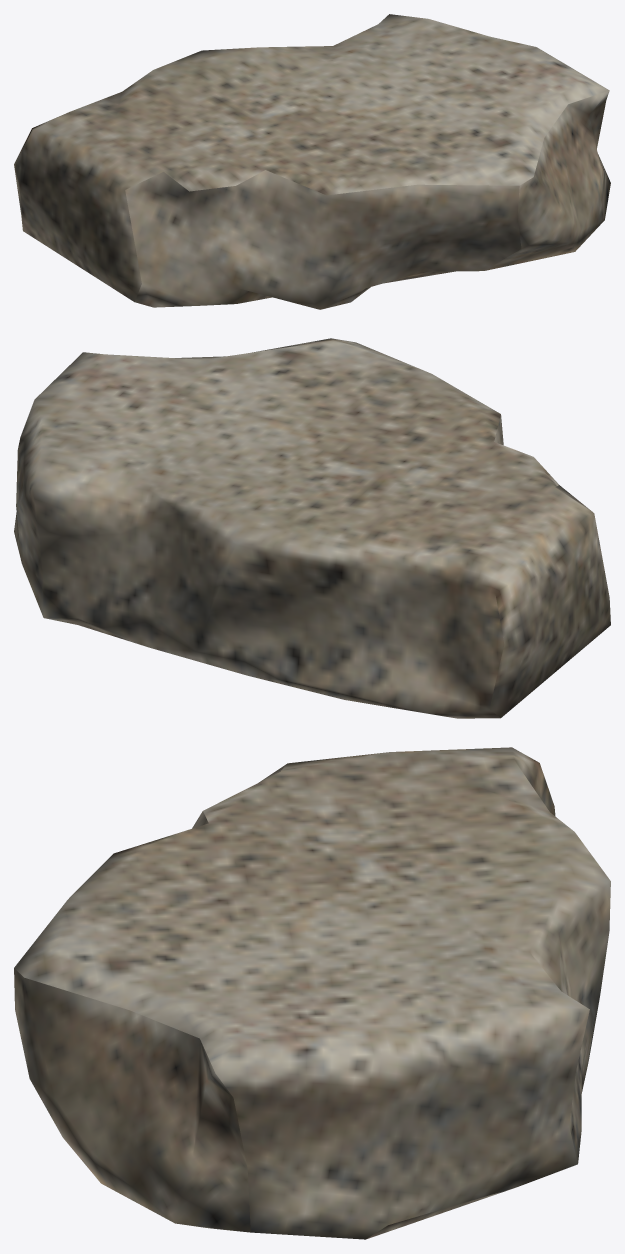
Rendered from Concrete_Rubble2.fbx.
3 renders of one model, top to bottom at view 1: azimuth 30°, elevation 25°; view 2: azimuth 150°, elevation 25°; view 3: azimuth 270°, elevation 25°, orthographic. The views are drawn at different scales.
Visible parts, largest first — view 1: Concrete_Rubble2; view 2: Concrete_Rubble2; view 3: Concrete_Rubble2.
Boxes of the visible parts, left/top/right/bottom form: Concrete_Rubble2: left=14, top=14, right=610, bottom=309; Concrete_Rubble2: left=14, top=338, right=610, bottom=718; Concrete_Rubble2: left=14, top=747, right=610, bottom=1239.
Bounding box in the file's own units: 10.23 × 2.58 × 7.49.
